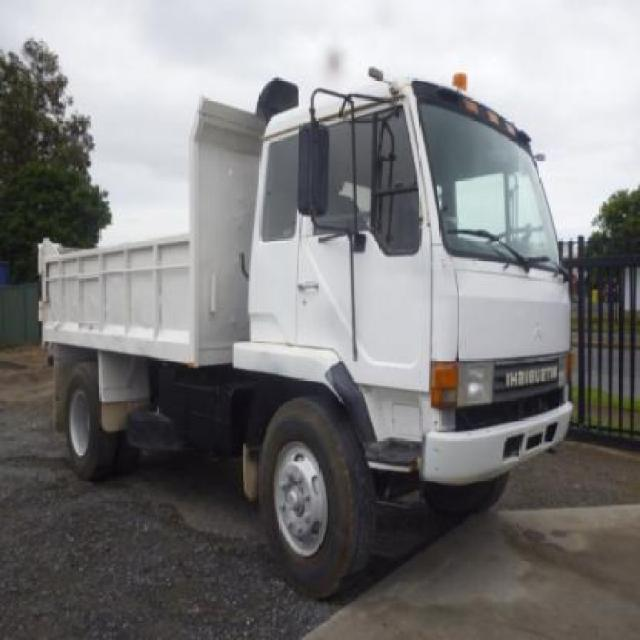truck: (36, 77, 577, 585)
